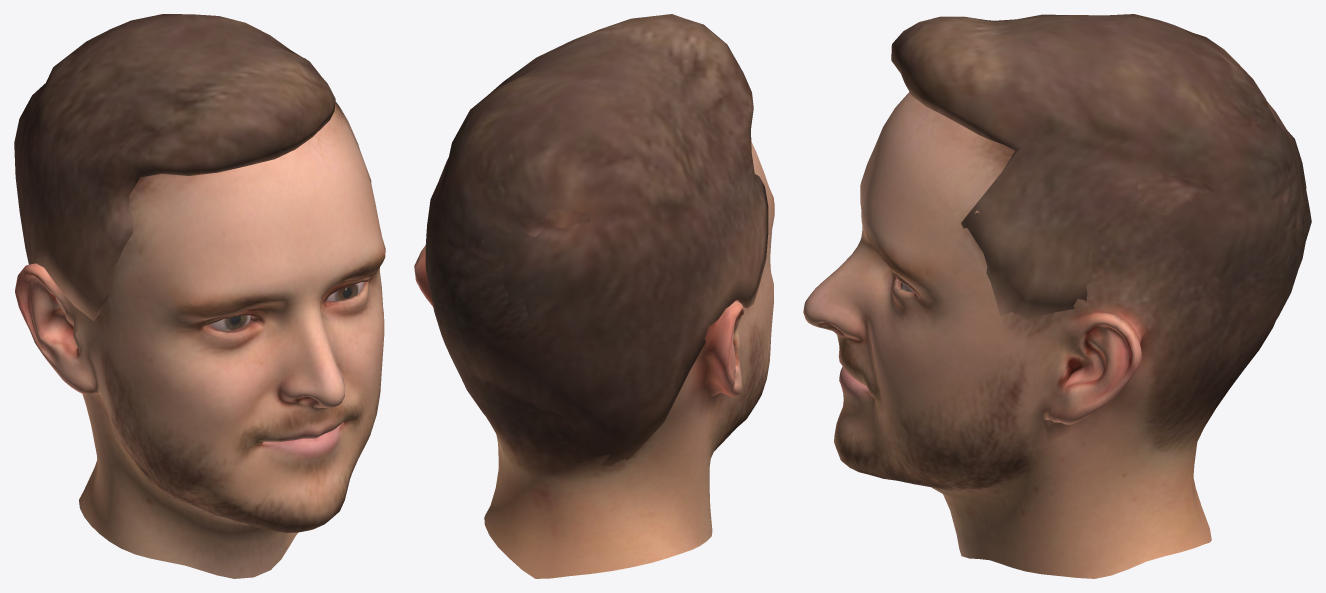
The picture shows the model from 3 angles, left to right: view 1: azimuth 30°, elevation 25°; view 2: azimuth 150°, elevation 25°; view 3: azimuth 270°, elevation 25°; orthographic projection. The views are drawn at different scales.
Visible parts, largest first — view 1: Body.001_3, Hair_2; view 2: Hair_2, Body.001_3; view 3: Body.001_3, Hair_2.
Part boxes in pixels (x1=…): Body.001_3: x1=15, y1=103, x2=385, y2=578; Hair_2: x1=14, y1=14, x2=371, y2=320; Hair_2: x1=425, y1=14, x2=768, y2=465; Body.001_3: x1=414, y1=142, x2=774, y2=578; Body.001_3: x1=803, y1=85, x2=1311, y2=578; Hair_2: x1=891, y1=14, x2=1306, y2=404.
Size of the model in its own units: 0.1799 by 0.2636 by 0.2316.
2 materials, 2 textured.
